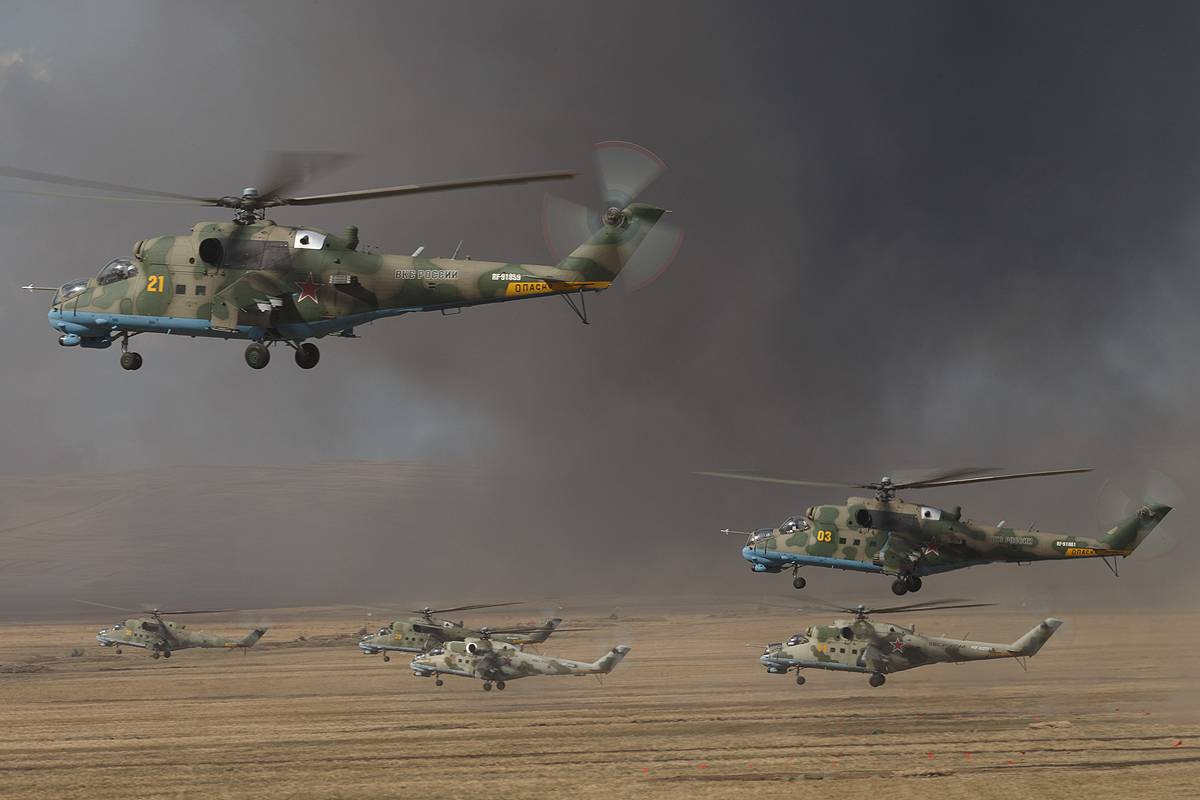number: (142, 273, 170, 301), (489, 270, 523, 284), (812, 524, 834, 545), (1051, 538, 1080, 549), (967, 642, 1000, 651), (813, 640, 832, 654), (557, 659, 580, 668), (503, 633, 522, 643), (393, 631, 408, 642), (122, 628, 135, 639), (447, 650, 454, 665)
